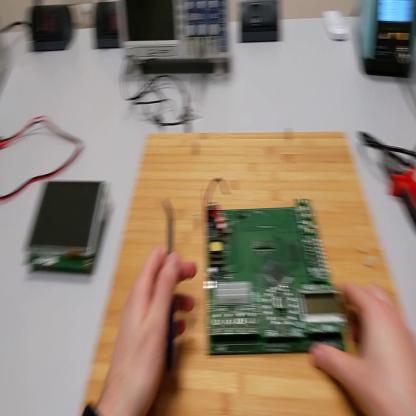hand: (97, 252, 198, 416), (311, 282, 416, 415)
low voltage board: (193, 178, 337, 356)
oscilloscope: (118, 1, 232, 76)
oscilloscope probe tip: (179, 88, 195, 135)
pliers: (384, 145, 416, 227), (164, 195, 176, 371)
socket: (27, 7, 75, 57), (91, 2, 122, 53)
welder station: (357, 1, 416, 81)
working area: (86, 128, 415, 415)
